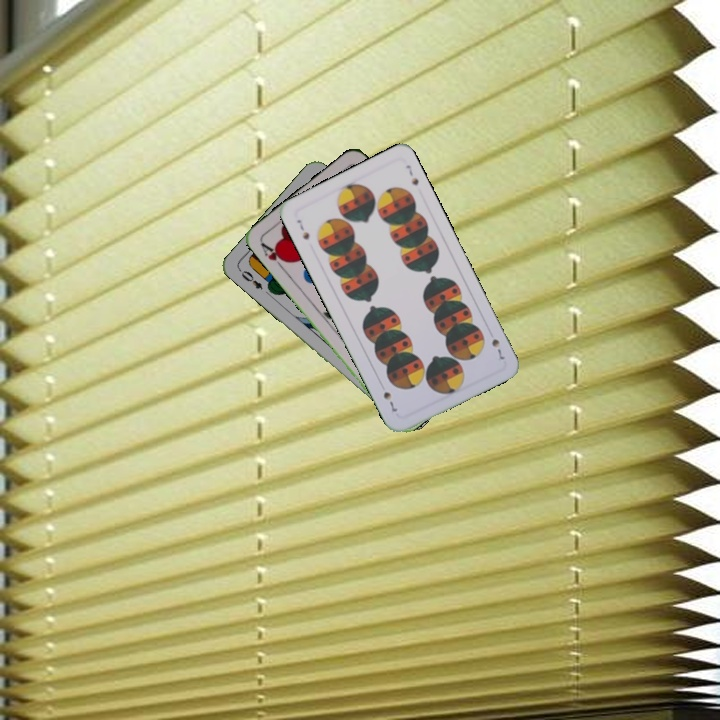EO: (235, 265, 265, 292)
HA: (257, 238, 291, 273)
S7: (487, 334, 507, 364), (292, 215, 312, 243)
